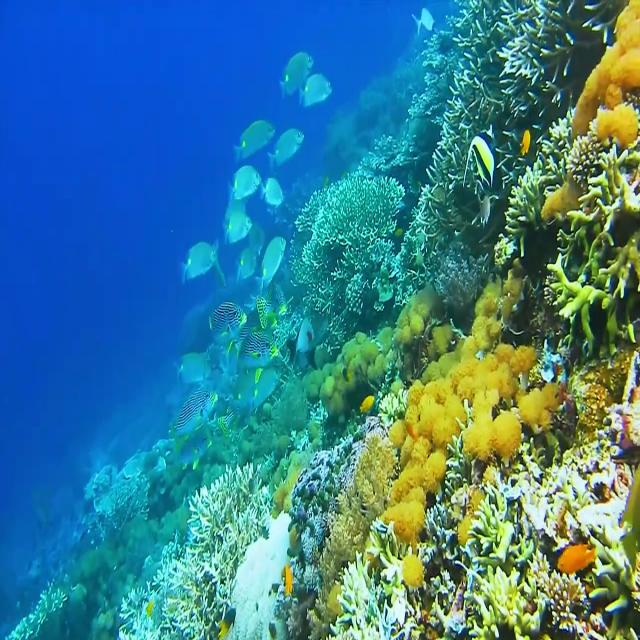fish: (460, 107, 499, 198), (276, 37, 314, 102), (167, 239, 216, 287), (234, 106, 274, 162), (258, 232, 290, 302), (295, 301, 338, 352), (222, 159, 264, 209), (218, 205, 260, 255), (168, 336, 214, 381), (263, 122, 305, 166), (235, 316, 278, 358), (294, 66, 332, 110), (231, 242, 263, 290), (259, 165, 287, 218), (208, 297, 242, 339)
